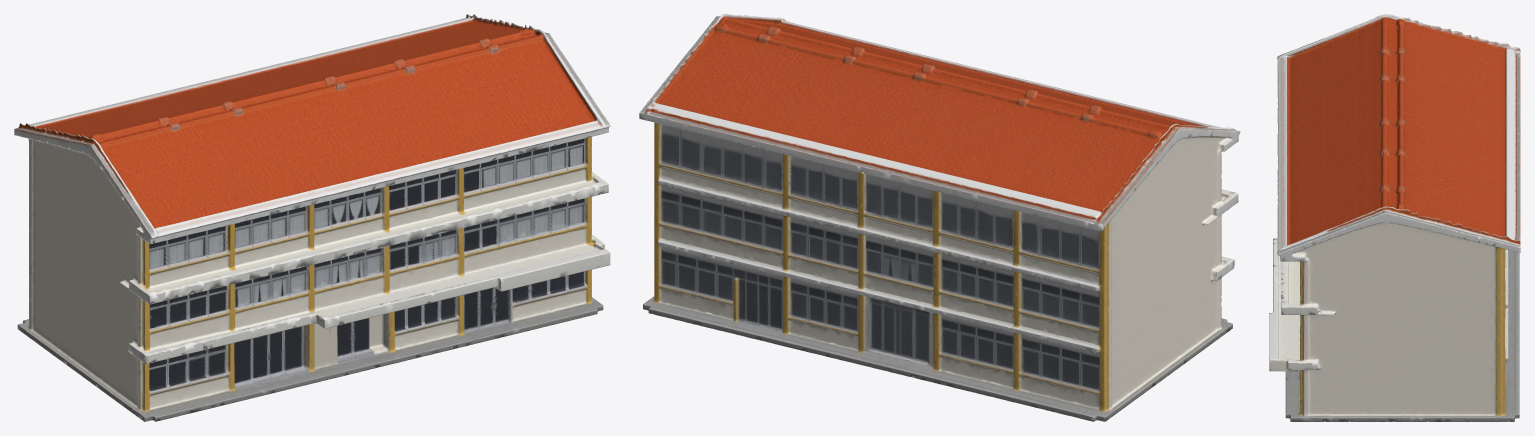
File: bid_13.glb
3 renders of one model, left to right at view 1: azimuth 30°, elevation 25°; view 2: azimuth 150°, elevation 25°; view 3: azimuth 270°, elevation 25°, orthographic. The views are drawn at different scales.
Bounding box in the file's own units: 1.9 × 0.9515 × 1.02.
1 material, 1 textured.
